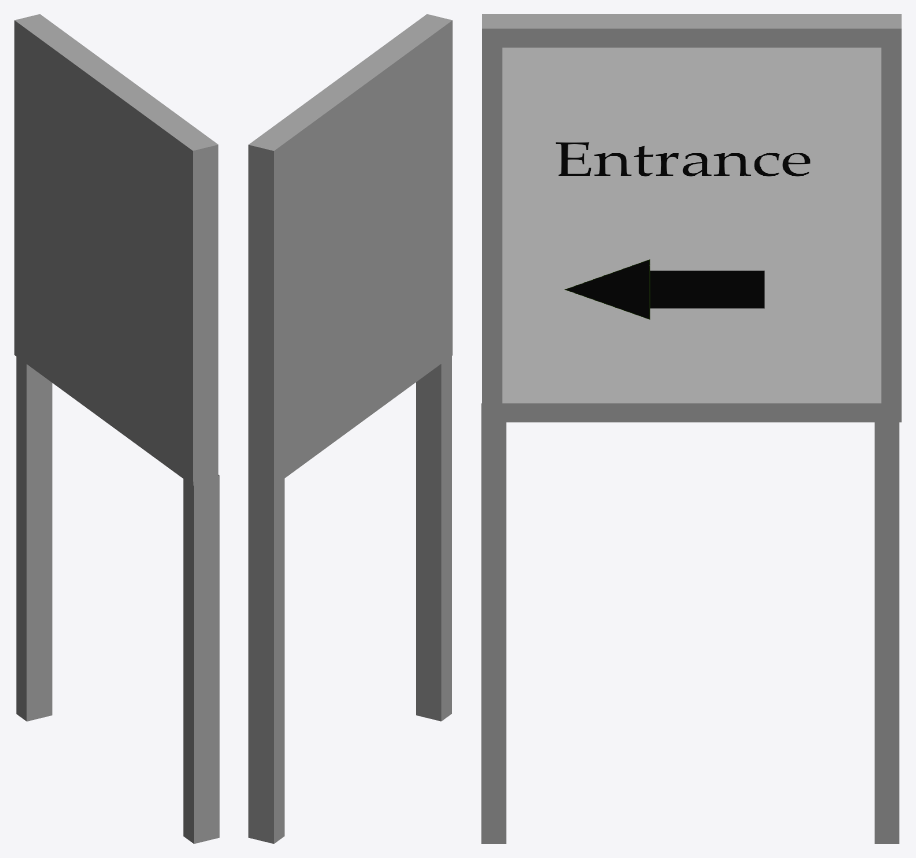
Rendered from entrancesign.fbx.
3 views of the same model, side by side, from view 1: azimuth 30°, elevation 25°; view 2: azimuth 150°, elevation 25°; view 3: azimuth 270°, elevation 25° (orthographic). The views are drawn at different scales.
Visible parts, largest first — view 1: entrancesign, leg, leg2; view 2: entrancesign, leg2, leg; view 3: entrancesign, leg, leg2.
Part boxes in pixels (<box>): entrancesign: <box>14,14,218,485</box>; leg: <box>183,475,219,843</box>; leg2: <box>16,357,52,721</box>; entrancesign: <box>248,14,452,485</box>; leg2: <box>248,478,284,843</box>; leg: <box>416,356,451,721</box>; entrancesign: <box>482,14,901,422</box>; leg: <box>481,403,506,843</box>; leg2: <box>874,418,899,843</box>.
Bounding box in the file's own units: 11.84 × 298 × 139.
